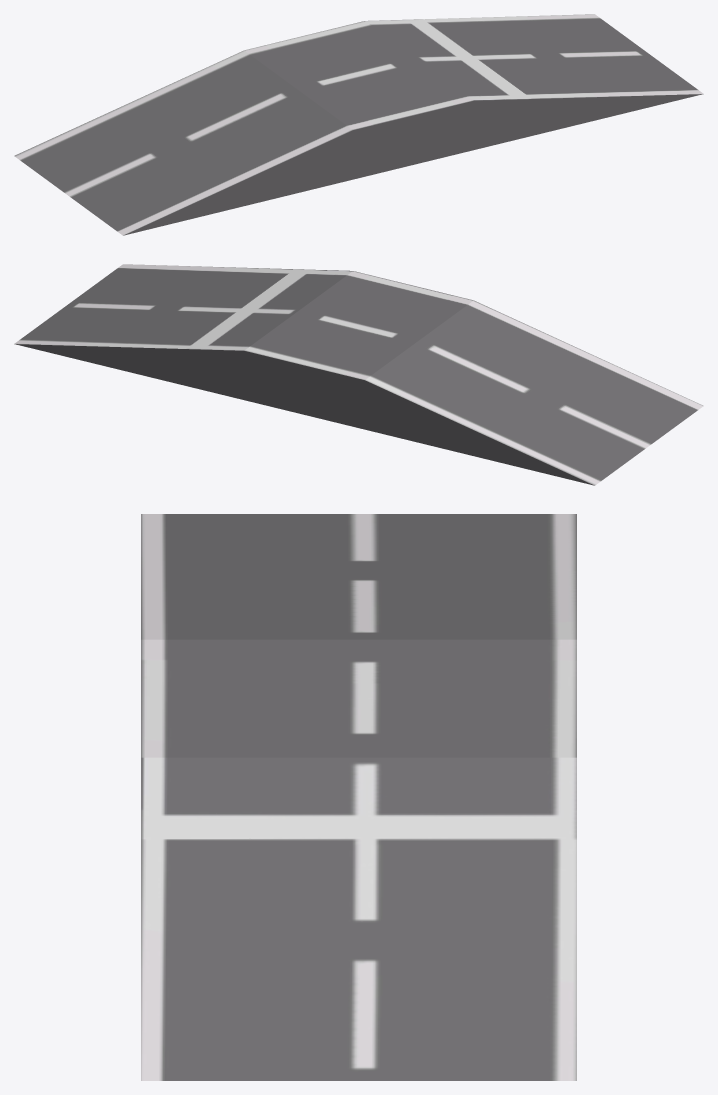
The model's file is pavement_hill.dae.
3 views of the same model, one above another, from view 1: azimuth 30°, elevation 25°; view 2: azimuth 150°, elevation 25°; view 3: azimuth 270°, elevation 25° (orthographic). The views are drawn at different scales.
Parts seen in each view (by area): view 1: Cube.001; view 2: Cube.001; view 3: Cube.001.
Boxes of the visible parts, bbox=[...] form: Cube.001: bbox=[14, 14, 703, 235]; Cube.001: bbox=[14, 264, 703, 485]; Cube.001: bbox=[141, 514, 576, 1080].
Bounding box in the file's own units: 24.6 × 8 × 2.
